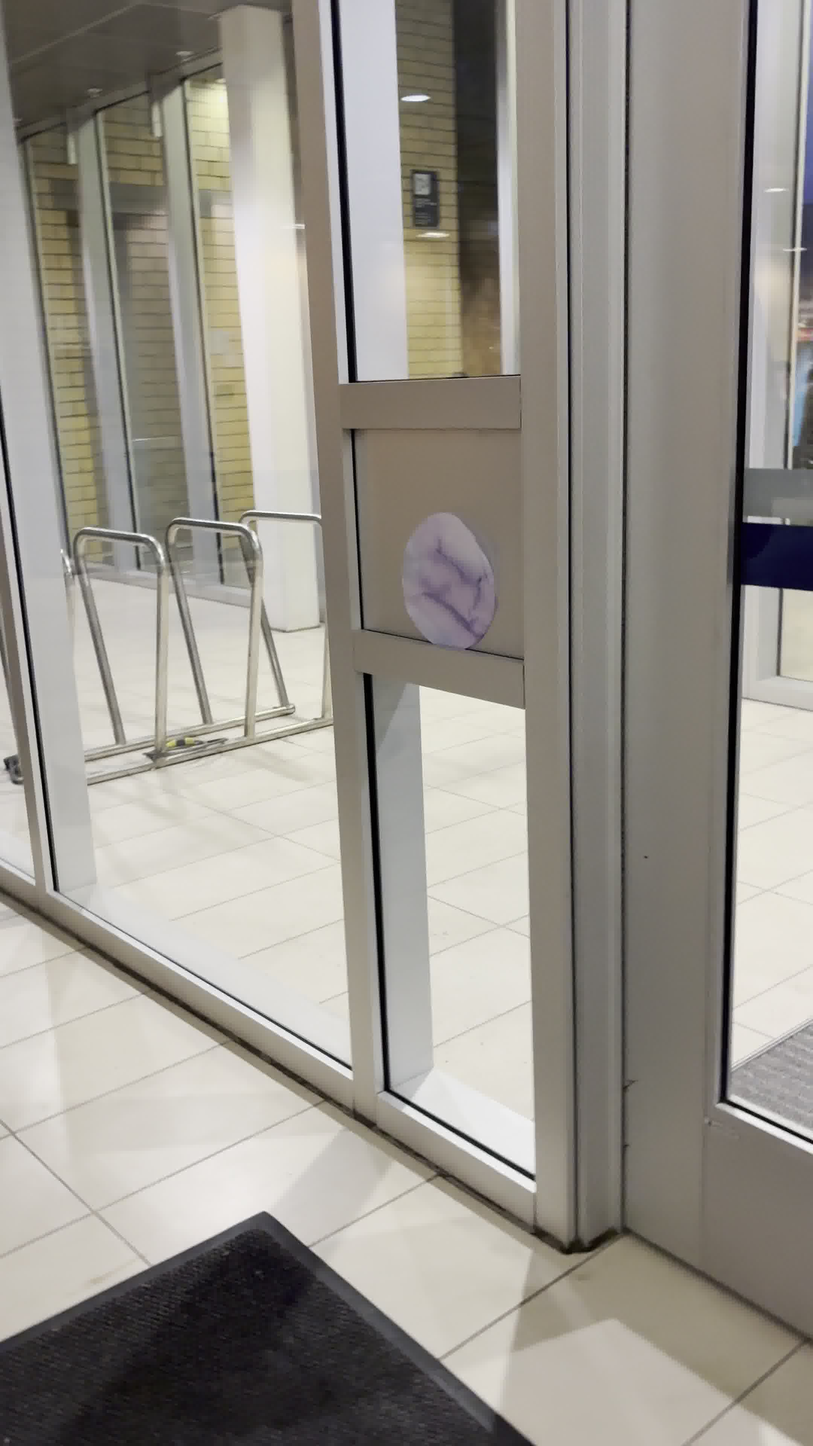Target: (395, 501, 503, 650)
